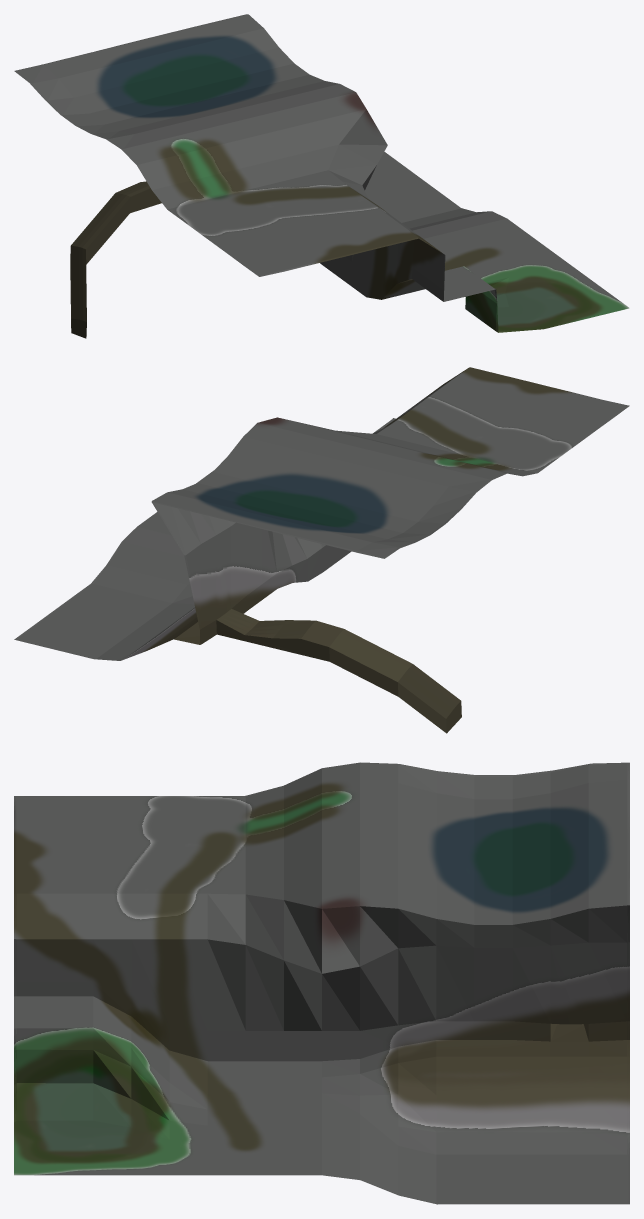
Rendered from CaveTestExtensionTest.obj.
3 views of the same model, one above another, from view 1: azimuth 30°, elevation 25°; view 2: azimuth 150°, elevation 25°; view 3: azimuth 270°, elevation 25° (orthographic). The views are drawn at different scales.
Visible parts, largest first — view 1: Plane_Plane.001; view 2: Plane_Plane.001; view 3: Plane_Plane.001.
Boxes of the visible parts, left/top/right/bottom form: Plane_Plane.001: left=14, top=14, right=629, bottom=338; Plane_Plane.001: left=14, top=367, right=629, bottom=733; Plane_Plane.001: left=14, top=762, right=629, bottom=1204.
Bounding box in the file's own units: 5.27 × 2.94 × 6.
